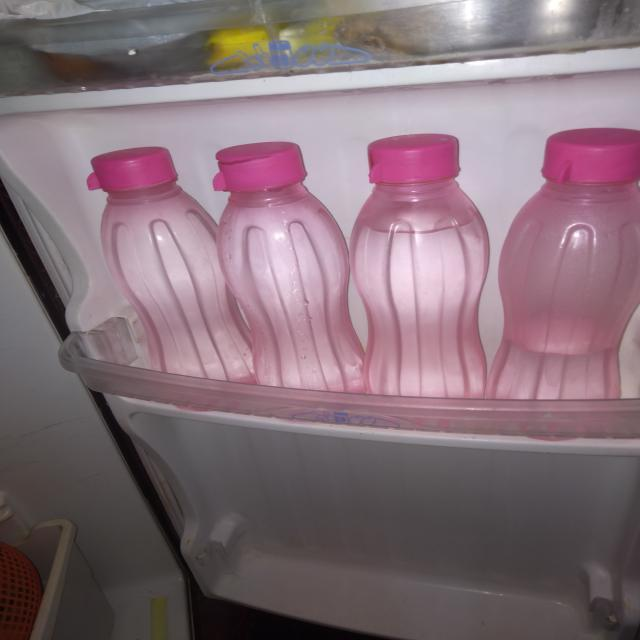good: (195, 137, 375, 416), (77, 147, 266, 410), (486, 125, 636, 440), (349, 131, 494, 426)
